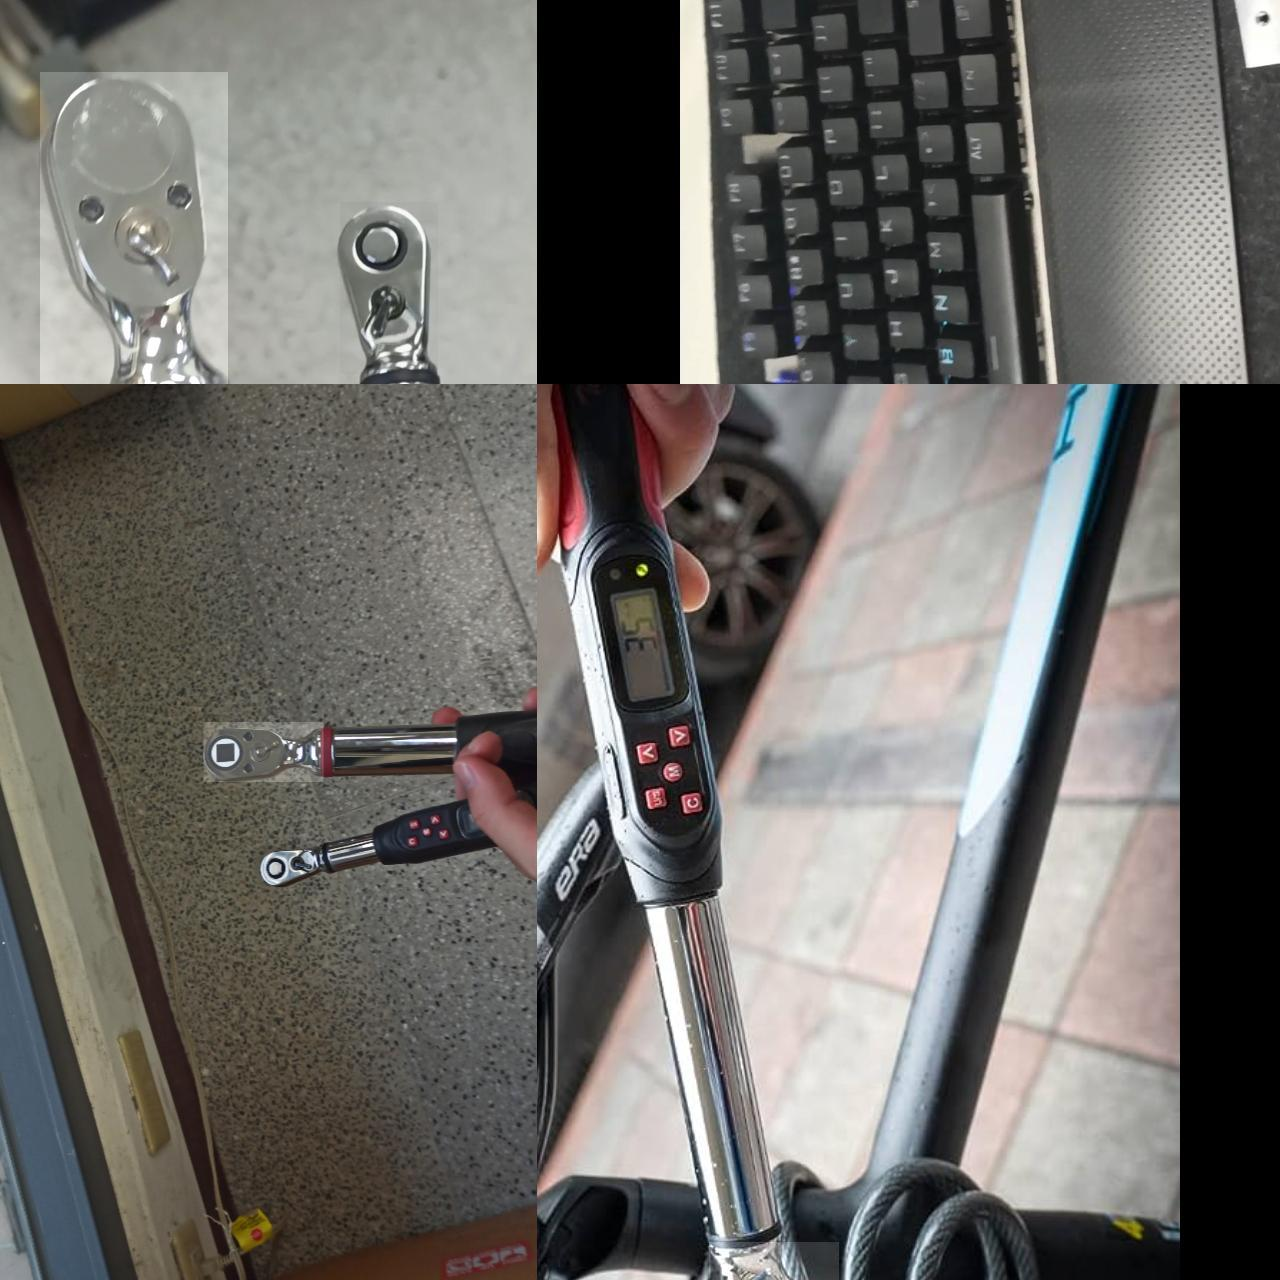Tool: (40, 72, 229, 384), (340, 200, 438, 373), (204, 721, 324, 781), (709, 1241, 839, 1280), (259, 842, 326, 885)
